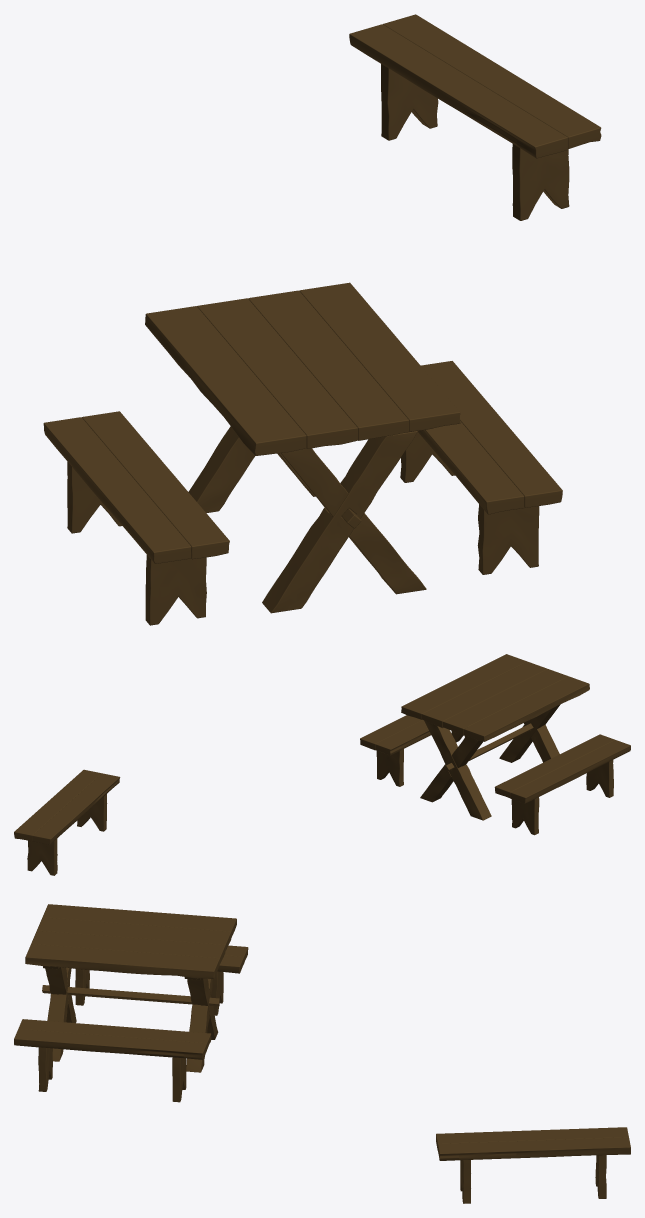
File: BenchAndTable.fbx
The picture shows the model from 3 angles, top to bottom: view 1: azimuth 30°, elevation 25°; view 2: azimuth 150°, elevation 25°; view 3: azimuth 270°, elevation 25°; orthographic projection. The views are drawn at different scales.
Visible parts, largest first — view 1: Wood table with benches.001, Wood table with benches.002; view 2: Wood table with benches.001, Wood table with benches.002; view 3: Wood table with benches.001, Wood table with benches.002.
Part boxes in pixels (box(x1,y1,x2,y2)): Wood table with benches.001: box(43, 282, 562, 625); Wood table with benches.002: box(349, 14, 601, 220); Wood table with benches.001: box(360, 654, 630, 835); Wood table with benches.002: box(14, 769, 120, 875); Wood table with benches.001: box(14, 904, 248, 1102); Wood table with benches.002: box(436, 1127, 630, 1203).
Size of the model in its own units: 462 by 106 by 544.
